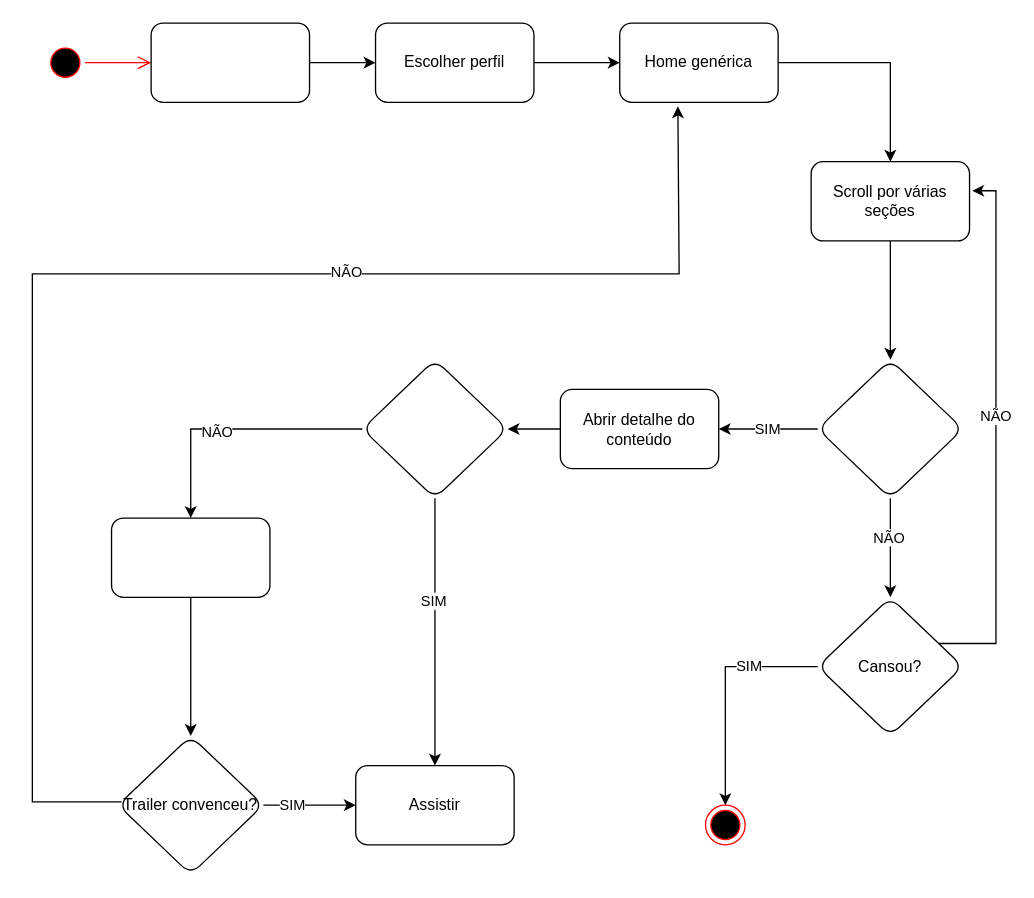
This 1034x898 diagram has some shape labels left out. Each missing label, with the centre of its shape:
Abrir aplicativo de streaming: (x=230, y=62)
Assistir trailer: (x=190, y=557)
Encontrou algo interessante?: (x=889, y=428)
Já conhece o conteúdo?: (x=434, y=428)
